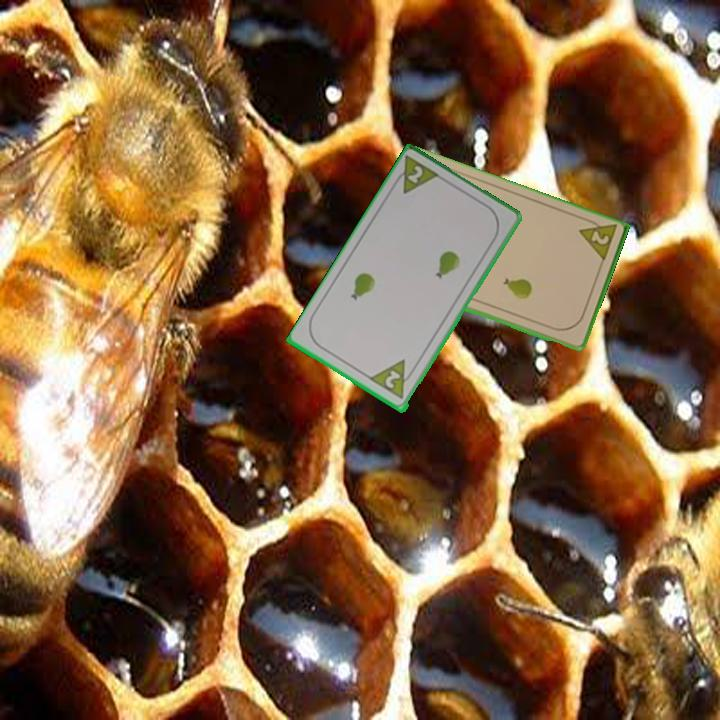2p: (388, 153, 444, 198), (367, 356, 419, 403), (587, 227, 612, 248)
